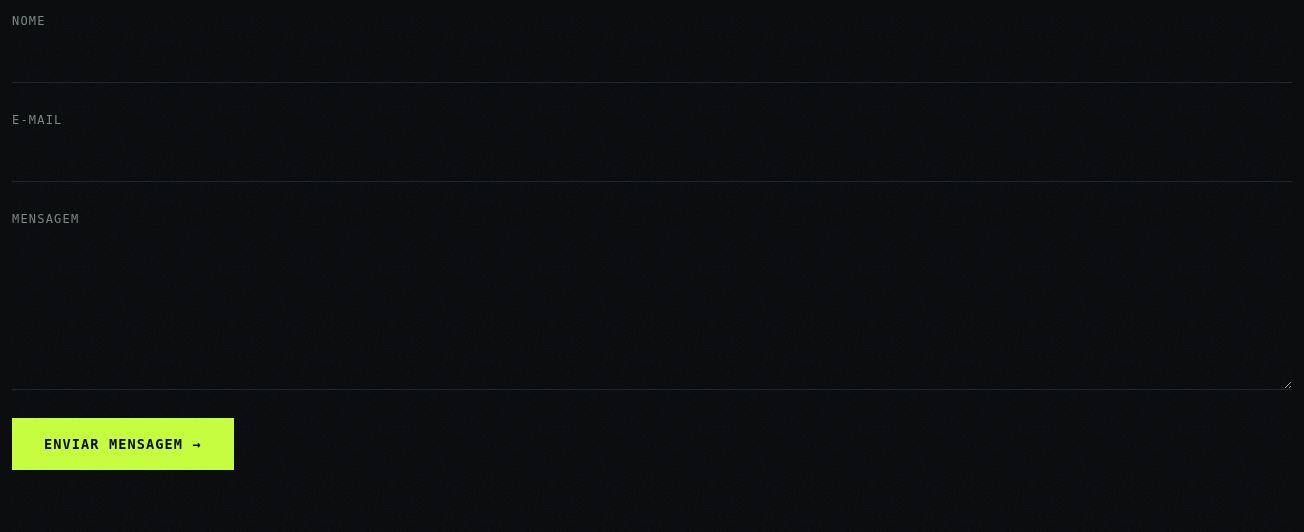
FormularioContato › abre o mailto com assunto e corpo codificados, avisa o envio e limpa os campos
Type "Ana Souza" into the field labelled "Nome". click: [652, 59]
box: x1=12 y1=35 x2=1292 y2=83
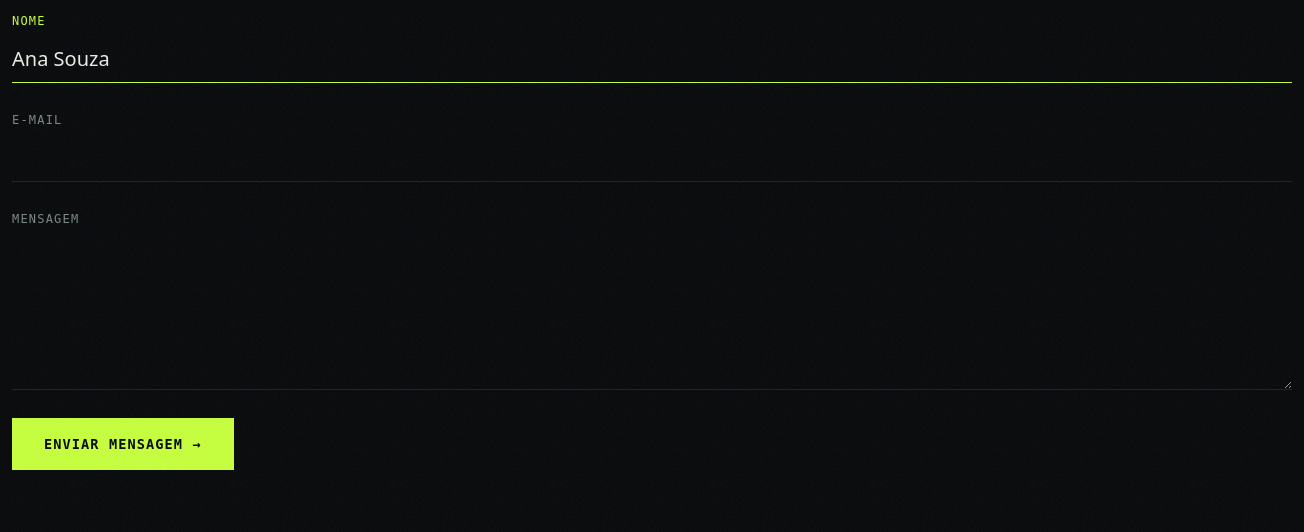
Type "ana@empresa.com" into the field labelled "E-mail". click: [652, 158]
box: x1=12 y1=134 x2=1292 y2=182
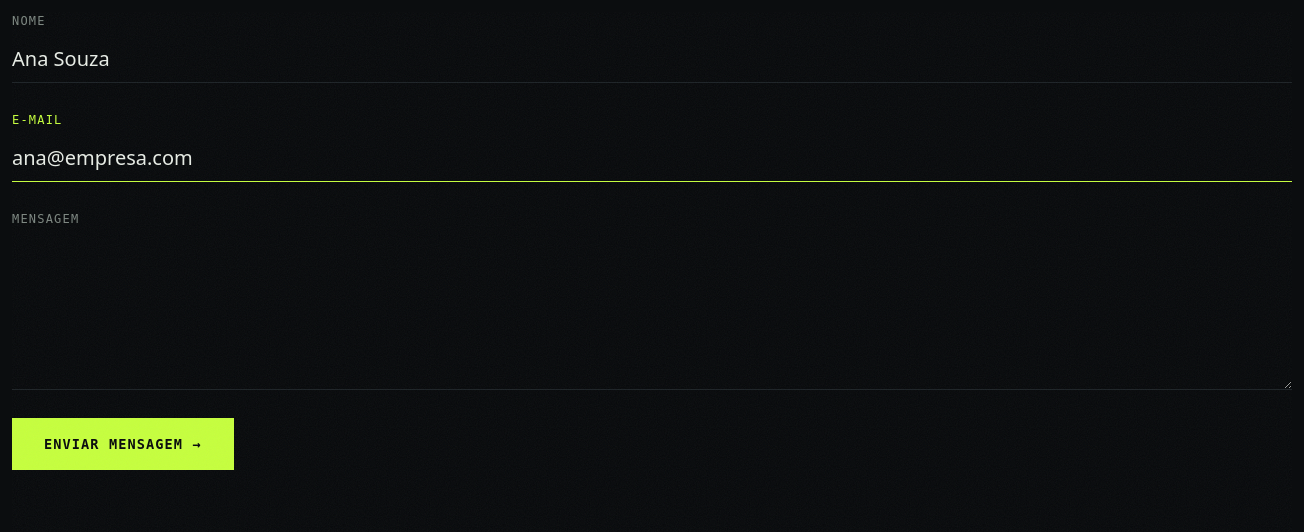
Type "Olá! Vamos conversar?" into the text box labelled "Mensagem". click: [652, 312]
box: x1=12 y1=234 x2=1292 y2=390
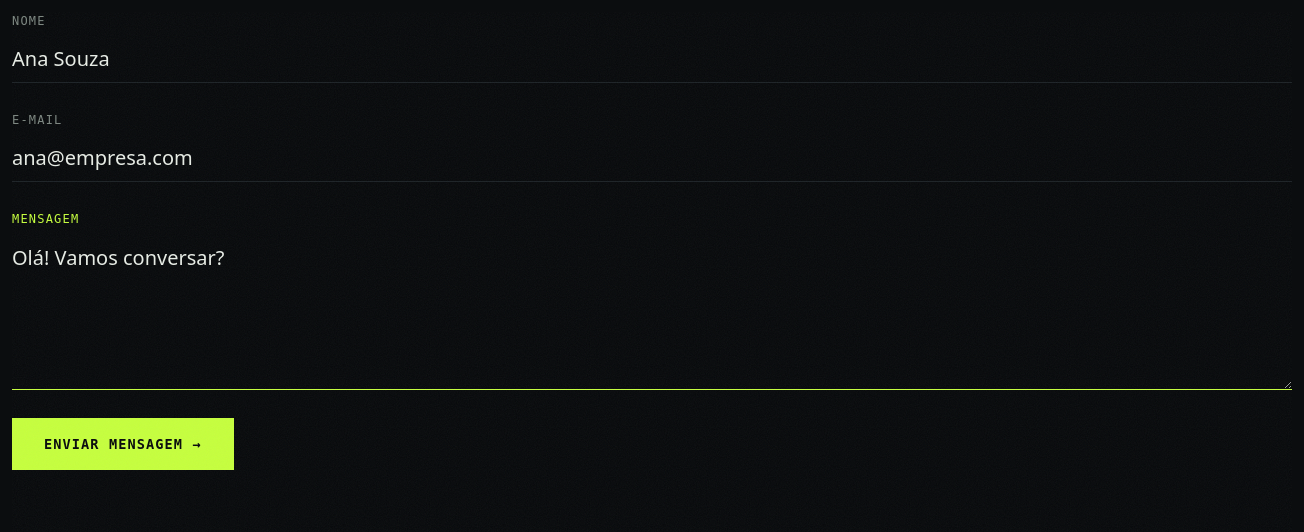
Click the button "Enviar mensagem →". click: [123, 444]
box: x1=12 y1=418 x2=234 y2=470
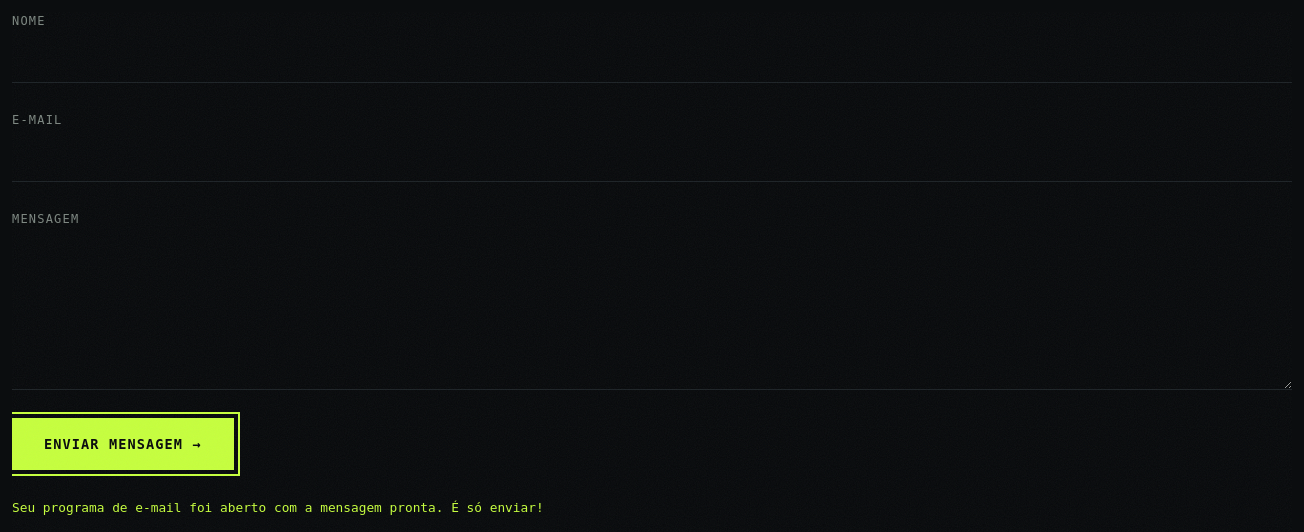
Check: the message shows "Seu programa de e-mail foi aberto", box x1=12 y1=500 x2=544 y2=515
Check: the field labelled "Nome" is empty, box x1=12 y1=35 x2=1292 y2=83
Check: the field labelled "E-mail" is empty, box x1=12 y1=134 x2=1292 y2=182
